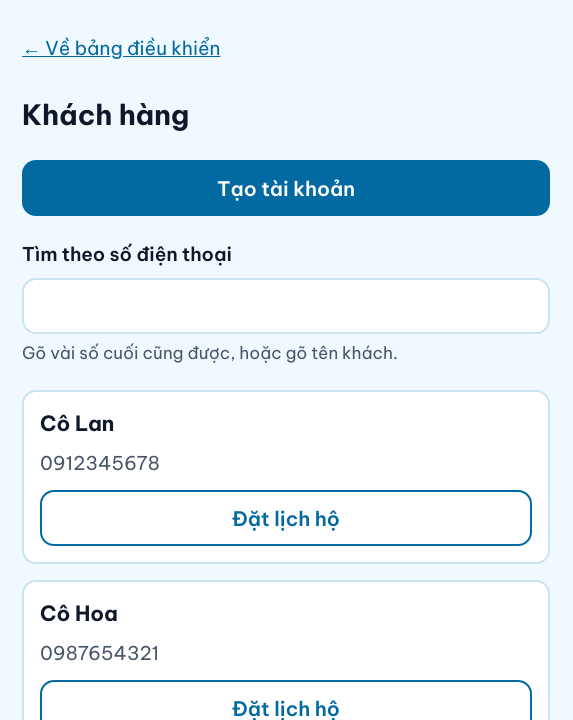
it: CustomersScreen › 4. form tạo khách: SĐT + tên + mật khẩu ban đầu; POST đúng body schema thật
Click the button "Tạo tài khoản" at (286, 188), box [22, 160, 550, 216]
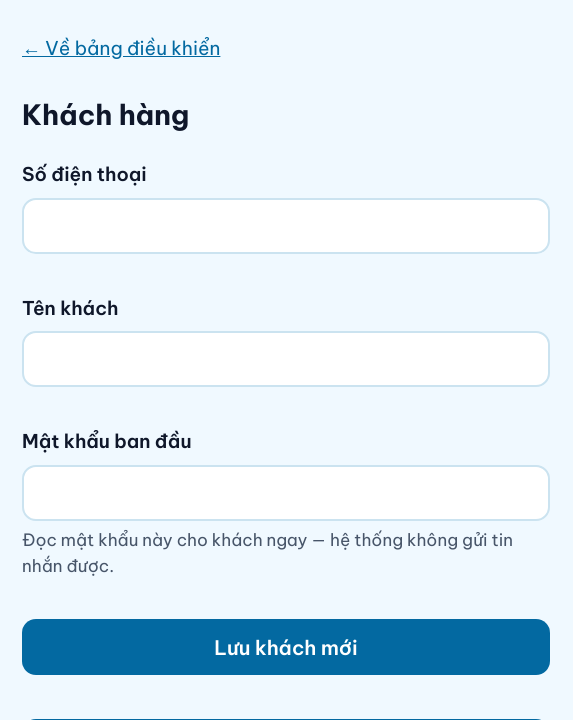
Type "0900111222" into the field labelled "Số điện thoại" at (286, 226), box [22, 198, 550, 254]
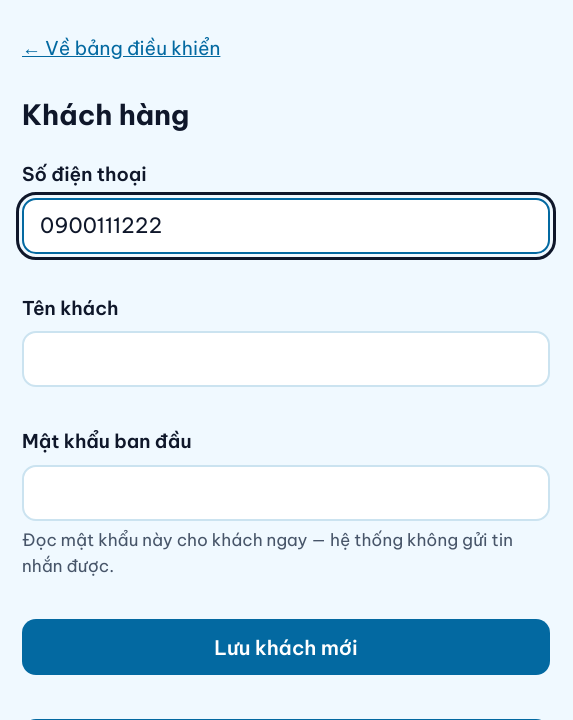
Type "Cô Mai" into the field labelled "Tên khách" at (286, 359), box [22, 331, 550, 387]
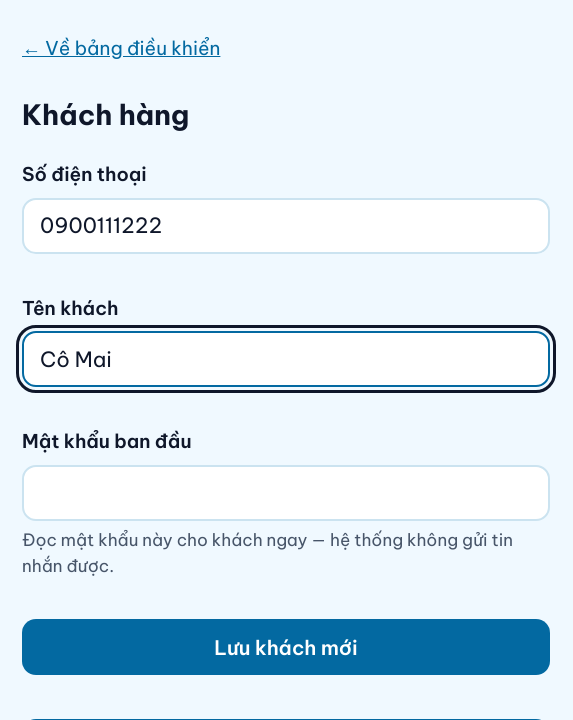
Type "1234" into the field labelled "Mật khẩu ban đầu" at (286, 493), box [22, 465, 550, 521]
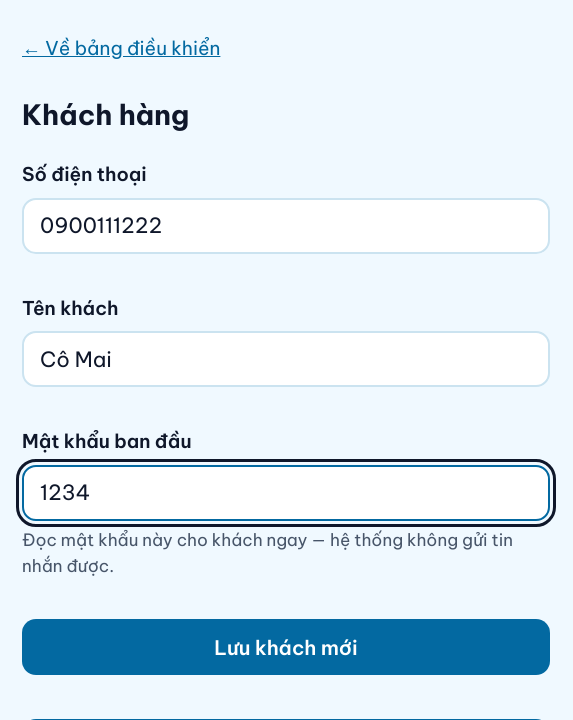
Click the button "Lưu khách mới" at (286, 647), box [22, 619, 550, 675]
(page scrolled)
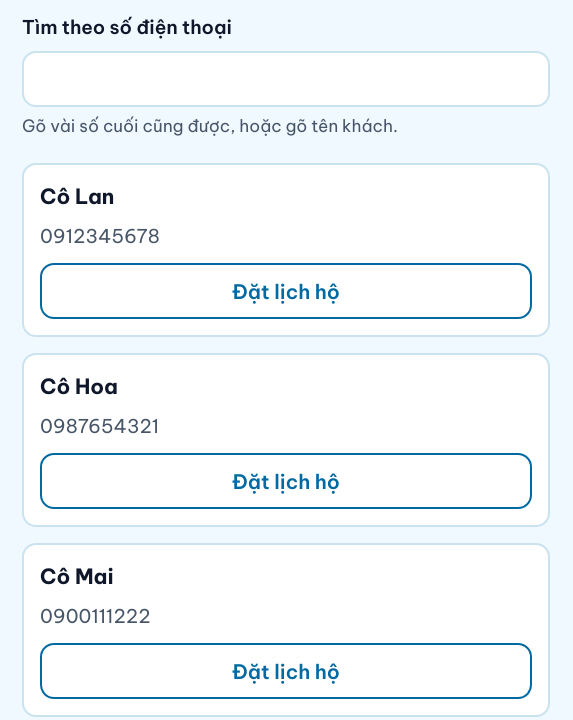
Expected: the text "Cô Mai" is shown, [40, 563, 114, 590]
